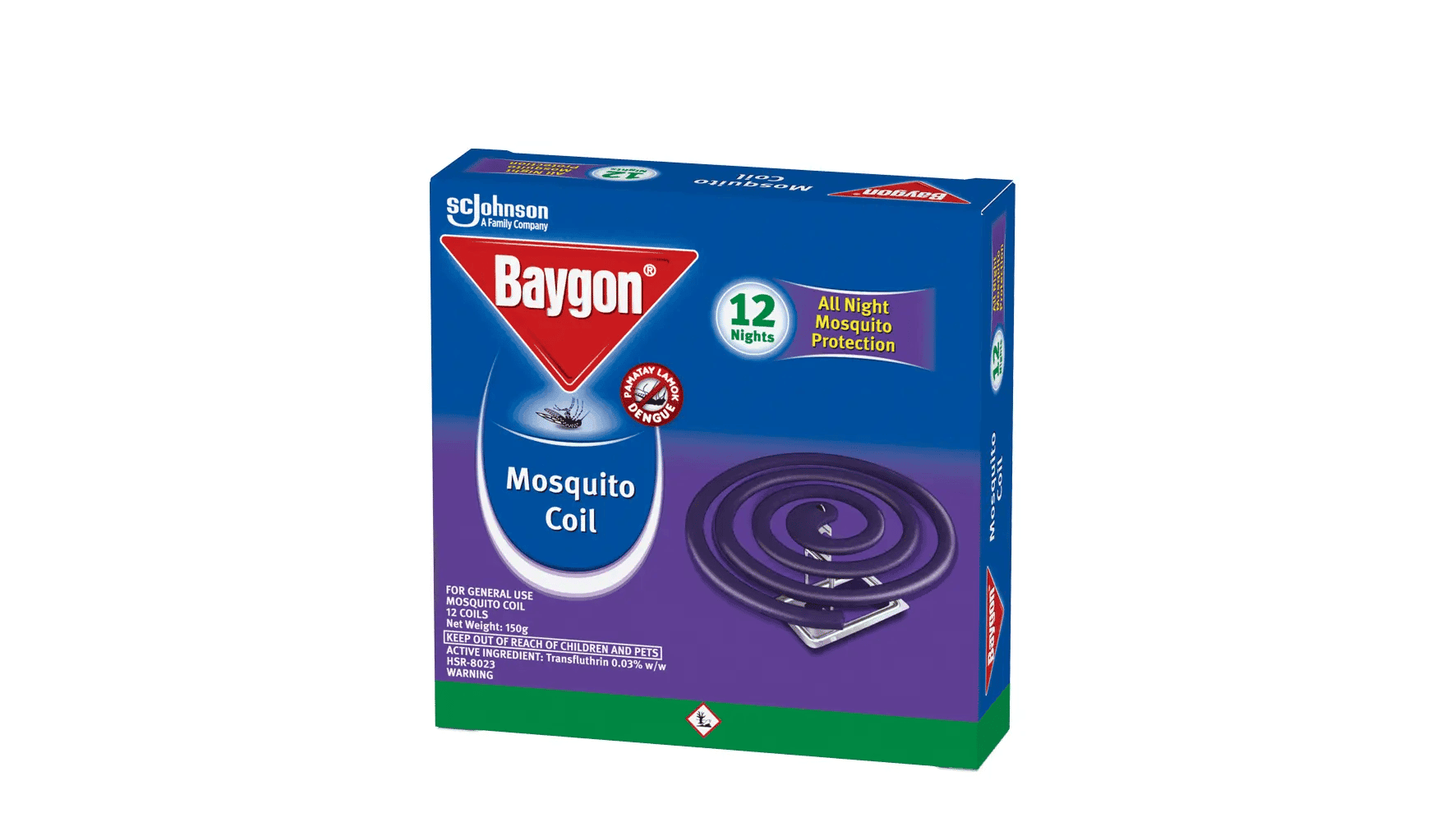Open-Flame-Hazard: (682, 434, 977, 668)
